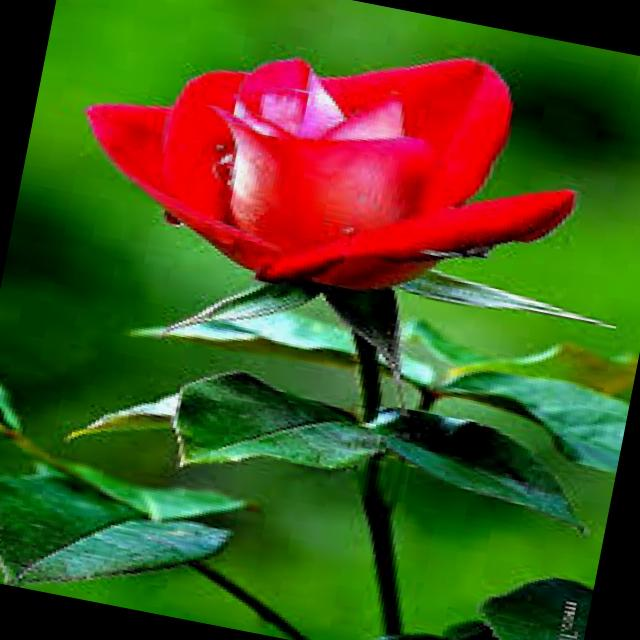rose: (39, 0, 634, 364)
